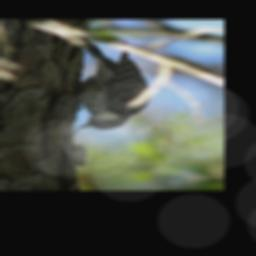Woodpecker: (73, 37, 153, 131)
